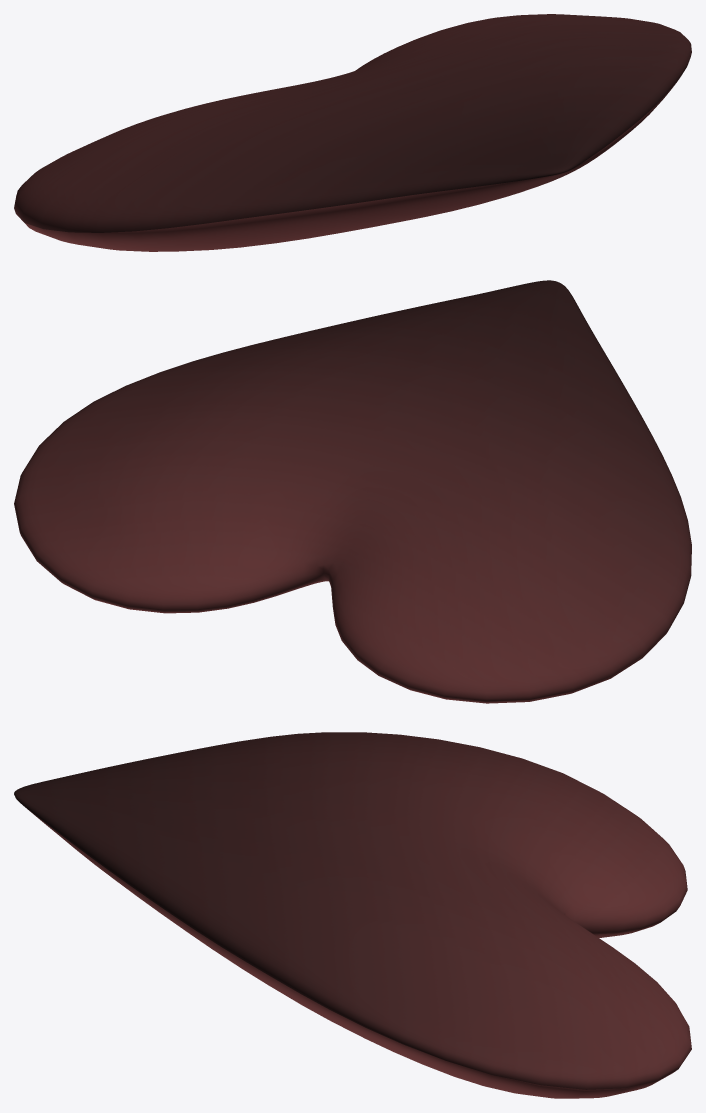
Rendered from heart.glb.
The picture shows the model from 3 angles, top to bottom: view 1: azimuth 30°, elevation 25°; view 2: azimuth 150°, elevation 25°; view 3: azimuth 270°, elevation 25°; orthographic projection. The views are drawn at different scales.
Visible parts, largest first — view 1: cc_t_heart5; view 2: cc_t_heart5; view 3: cc_t_heart5.
Part boxes in pixels (x1,y1,x2,y2): cc_t_heart5: [14, 14, 691, 251]; cc_t_heart5: [14, 280, 691, 703]; cc_t_heart5: [14, 732, 691, 1098].
Bounding box in the file's own units: 0.0724 × 0.0198 × 0.0595.
Materials: 1 (1 with a texture image).
